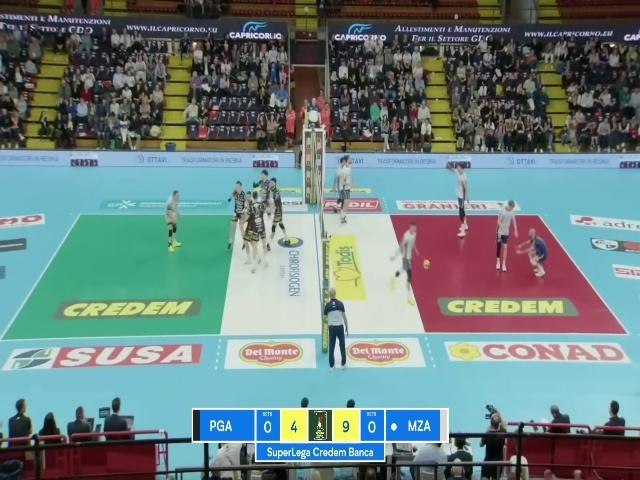volleyball court: (4, 213, 628, 341)
